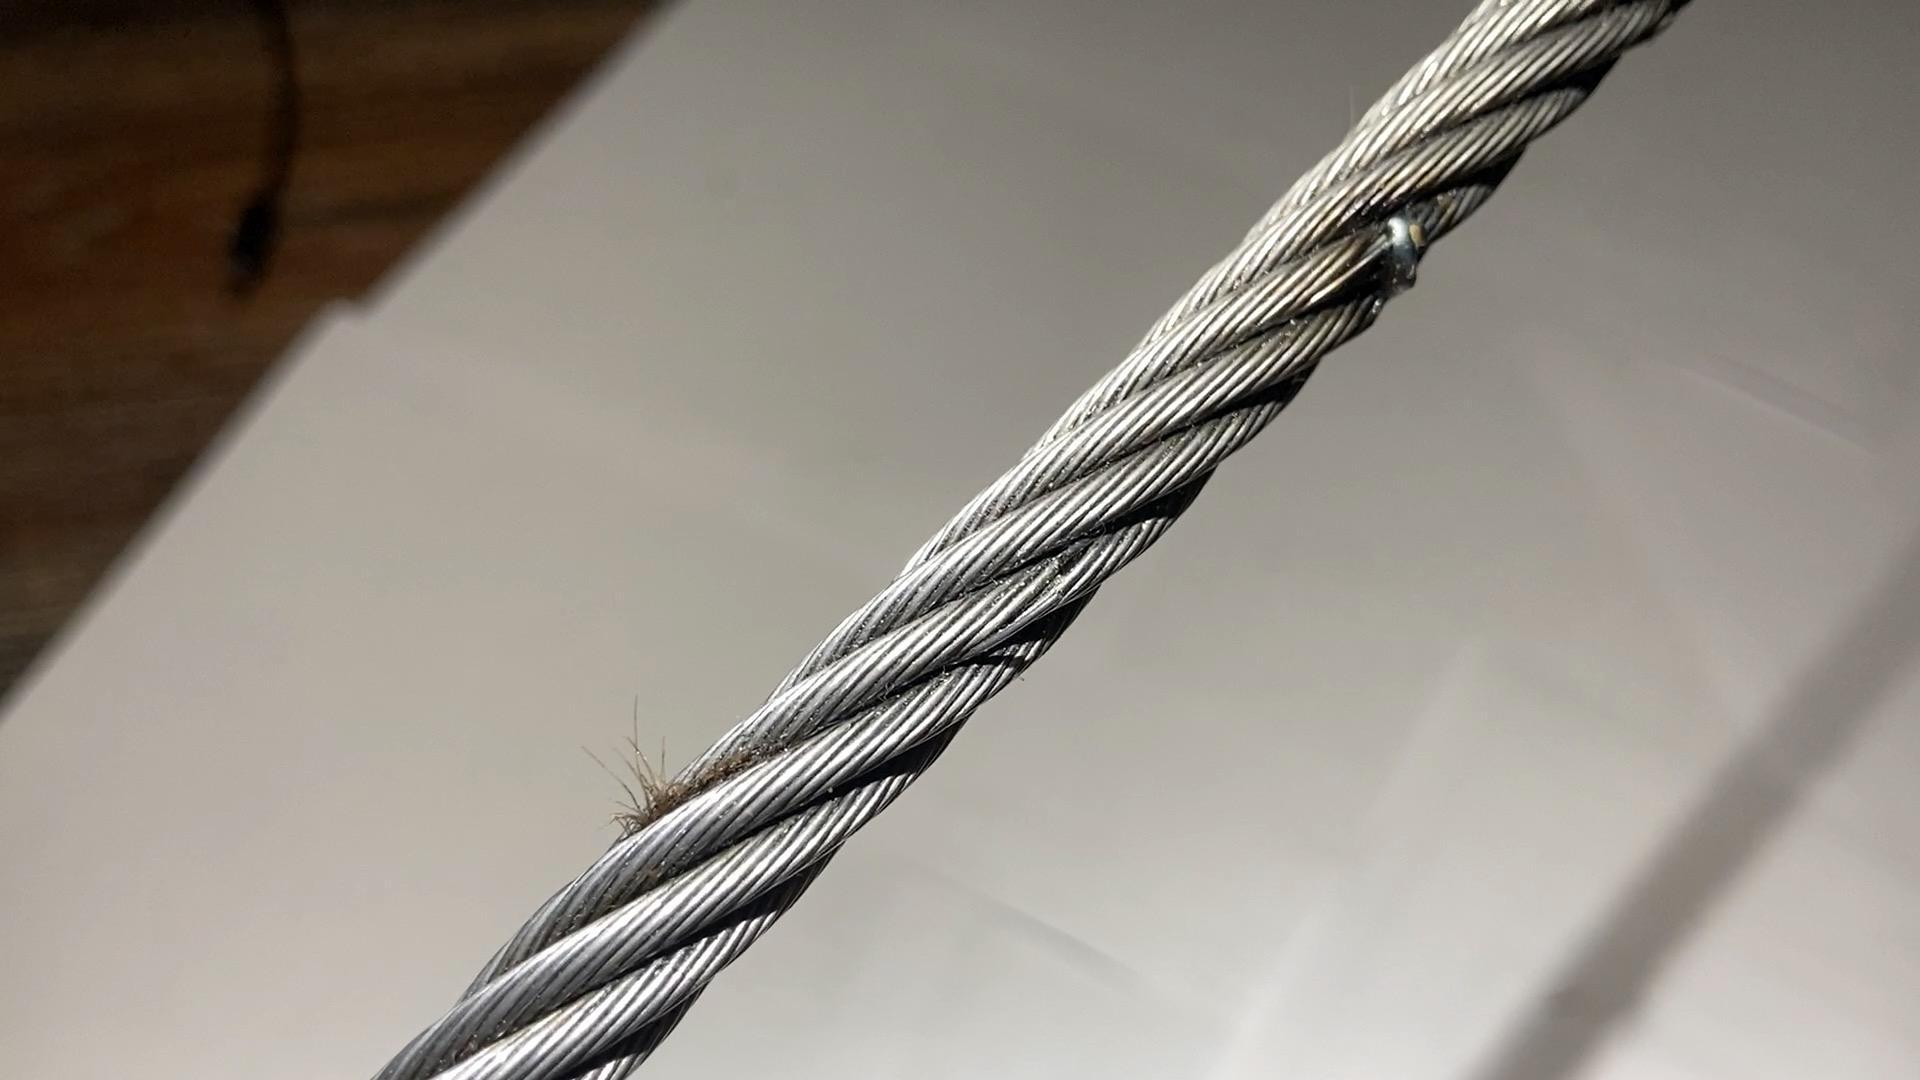thunderbolt: (1348, 207, 1431, 294)
